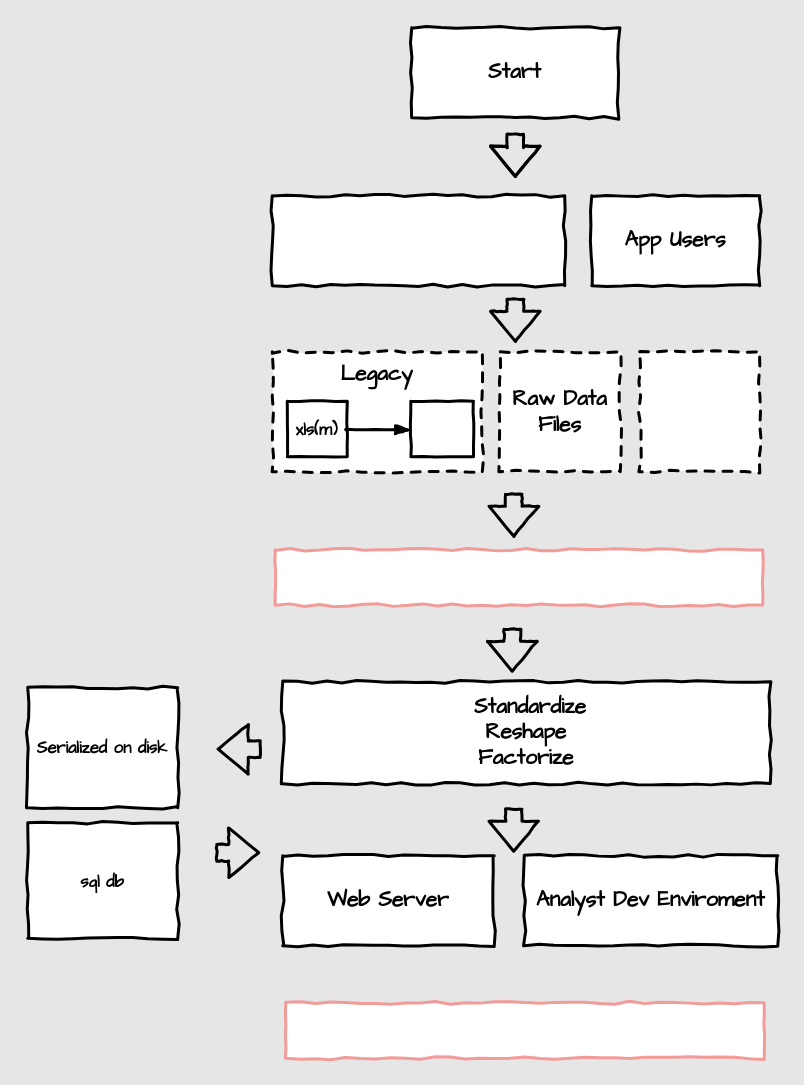
Some shapes in this 804 by 1085 pixel diagram are drawn without their labels. Each missing label, with the centre of its shape:
accdb: pixel 441 428
Data Stream: pixel 699 411
Data Vendors: pixel 418 240
dataframe(s): pixel 518 577
interactive data tools: pixel 524 1029
